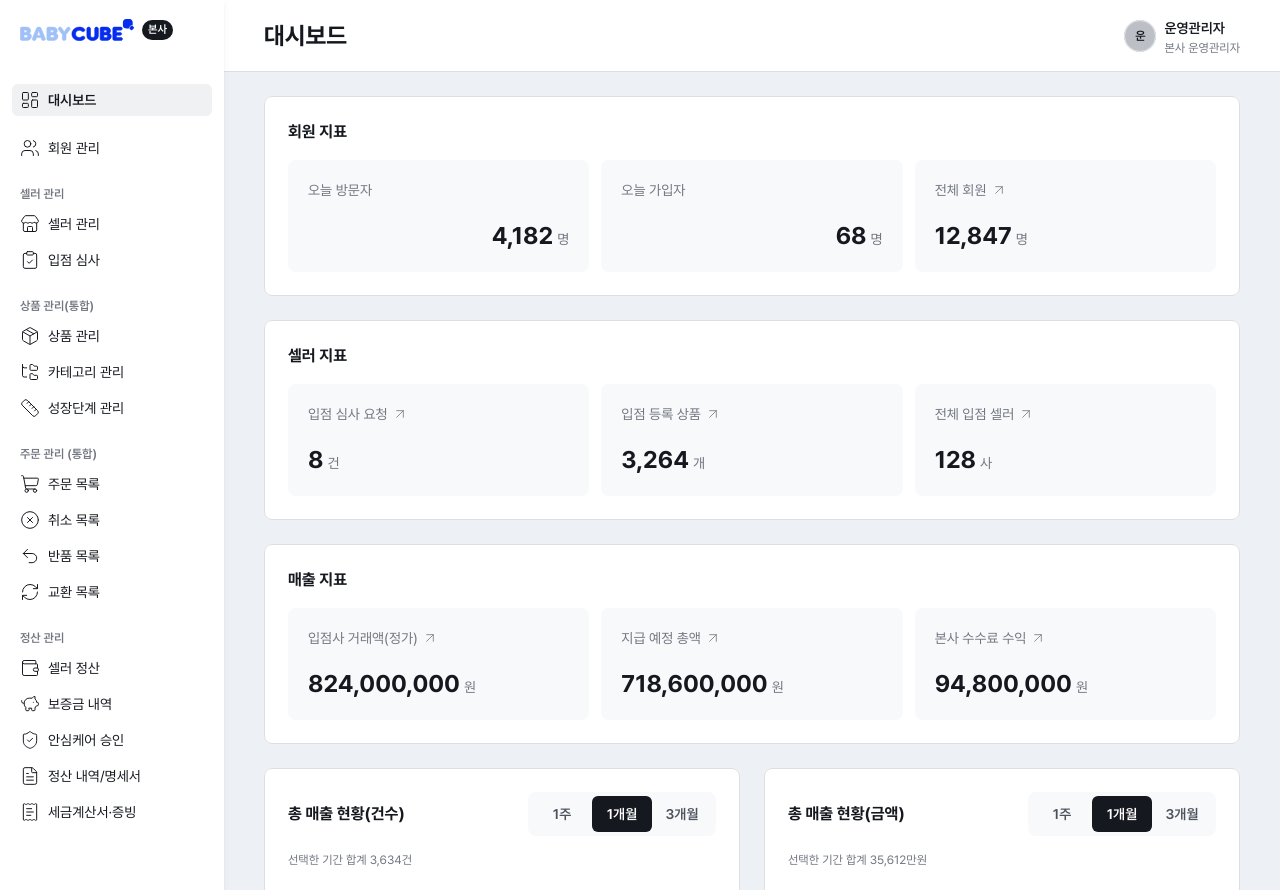
Test: BabycubeDashboardPage (S01 대시보드) › 총 매출 현황 차트 › 건수 차트의 기간을 바꾸면 그 차트의 합계만 바뀐다
Click the radio button labelled "1주" next to "총 매출 현황(건수)": x=562, y=814 [532,796,592,832]
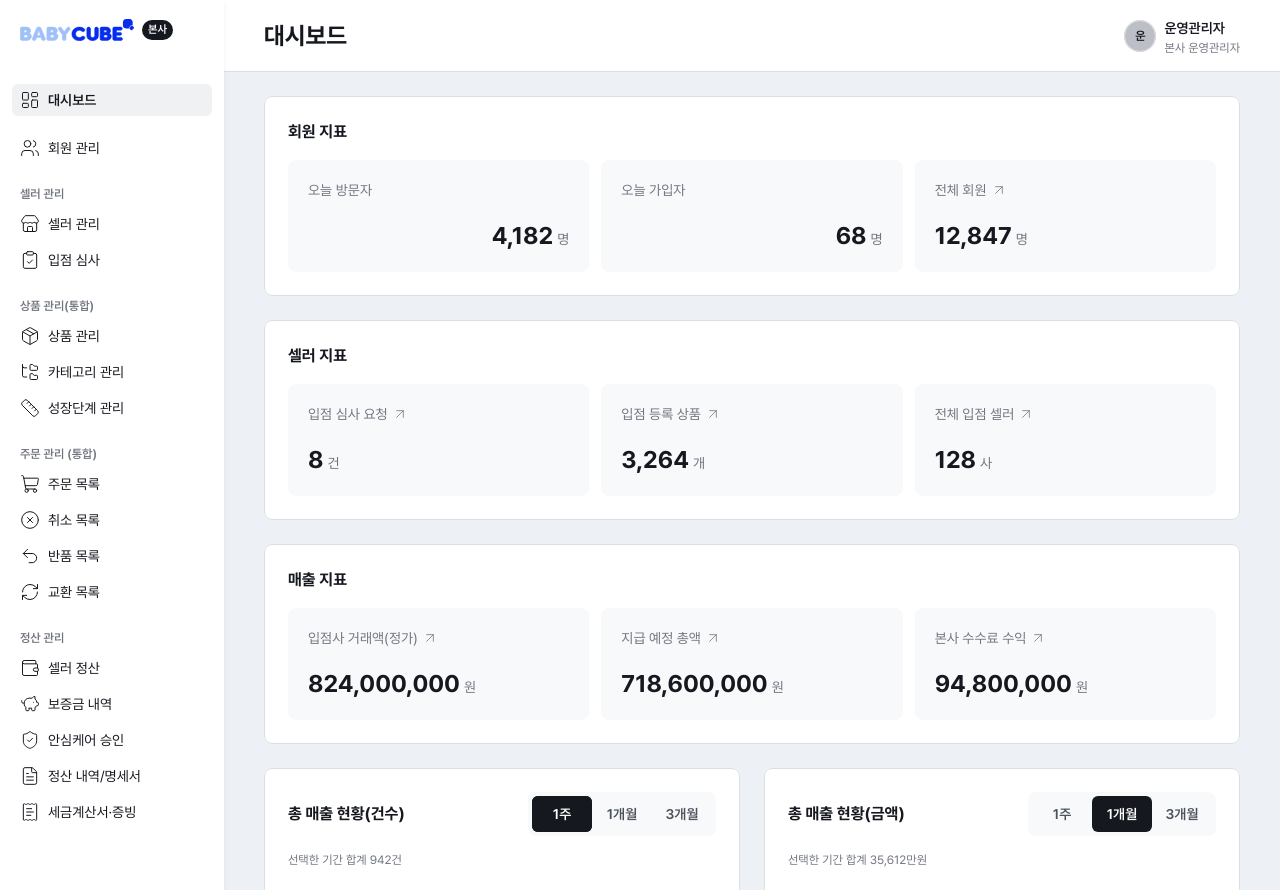
Expected: the text "선택한 기간 합계 35,612만원" is shown, [788,853,927,867]
Now the text "선택한 기간 합계 942건" is shown, box [288,853,402,867]
